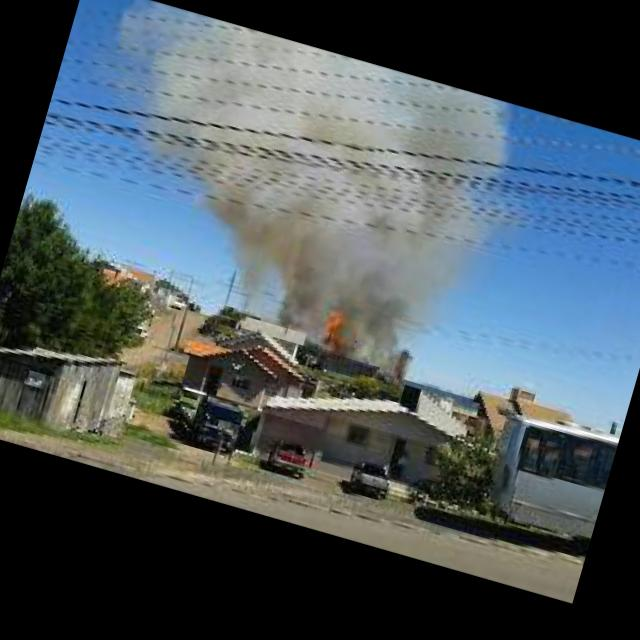fire: (314, 298, 354, 356)
smoke: (72, 0, 526, 363)
